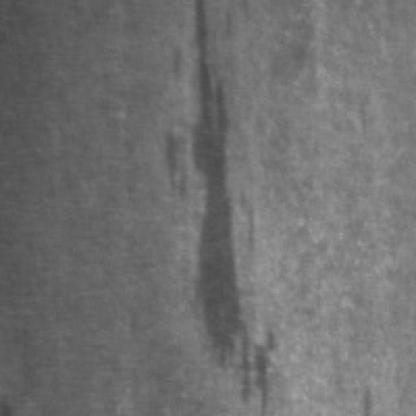inclusion: (193, 0, 285, 408)
